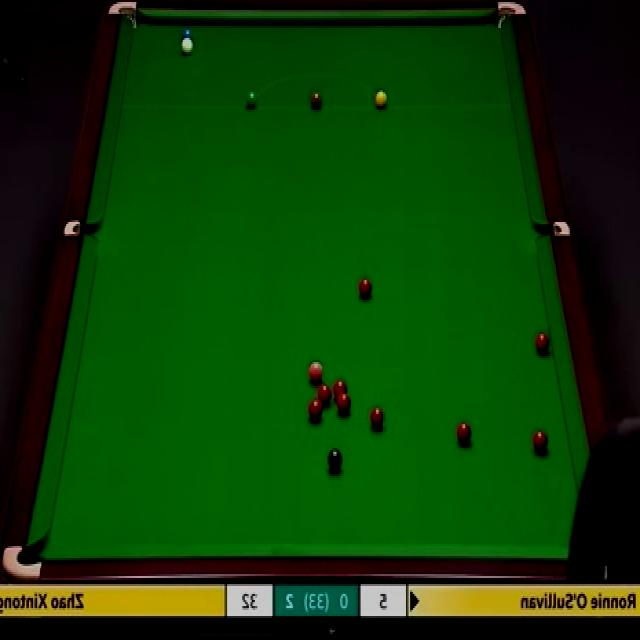pocket: (0, 543, 43, 583), (108, 0, 142, 31), (496, 0, 529, 29), (535, 218, 570, 240), (63, 220, 101, 237)
